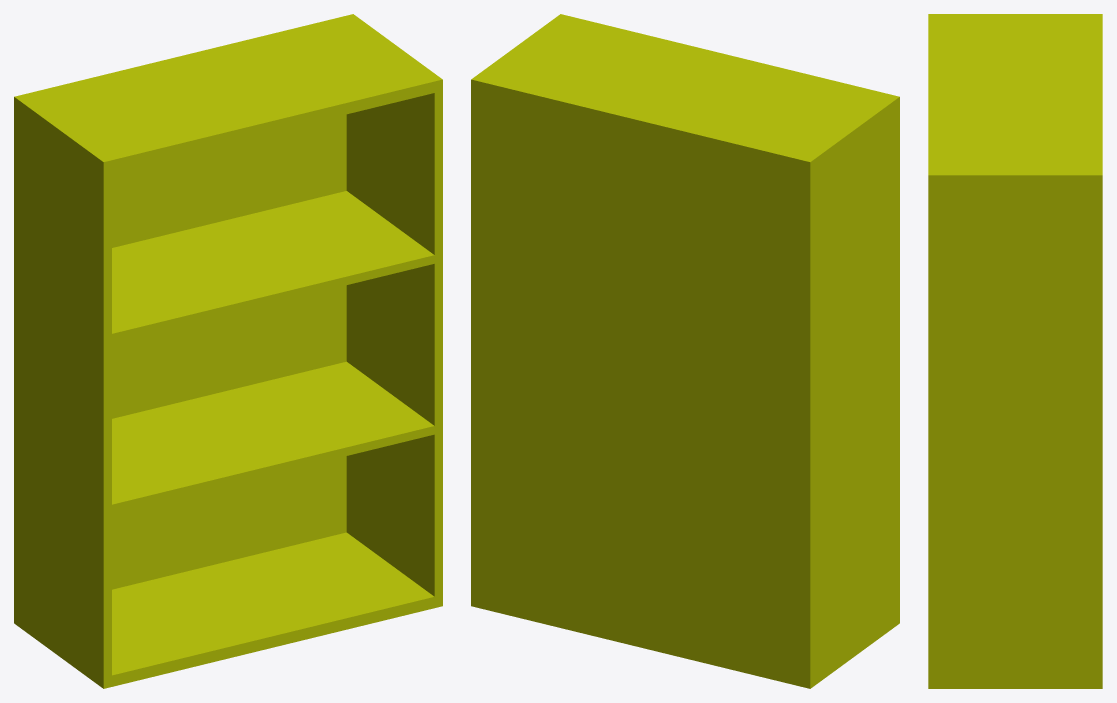
File: shelves.obj
3 views of the same model, side by side, from view 1: azimuth 30°, elevation 25°; view 2: azimuth 150°, elevation 25°; view 3: azimuth 270°, elevation 25° (orthographic). The views are drawn at different scales.
Visible parts, largest first — view 1: Body.001; view 2: Body.001; view 3: Body.001.
Part boxes in pixels (x1=…): Body.001: x1=14, y1=14, x2=442, y2=688; Body.001: x1=471, y1=14, x2=899, y2=688; Body.001: x1=928, y1=14, x2=1102, y2=688.
Bounding box in the file's own units: 0.744 × 1.1 × 0.34.
